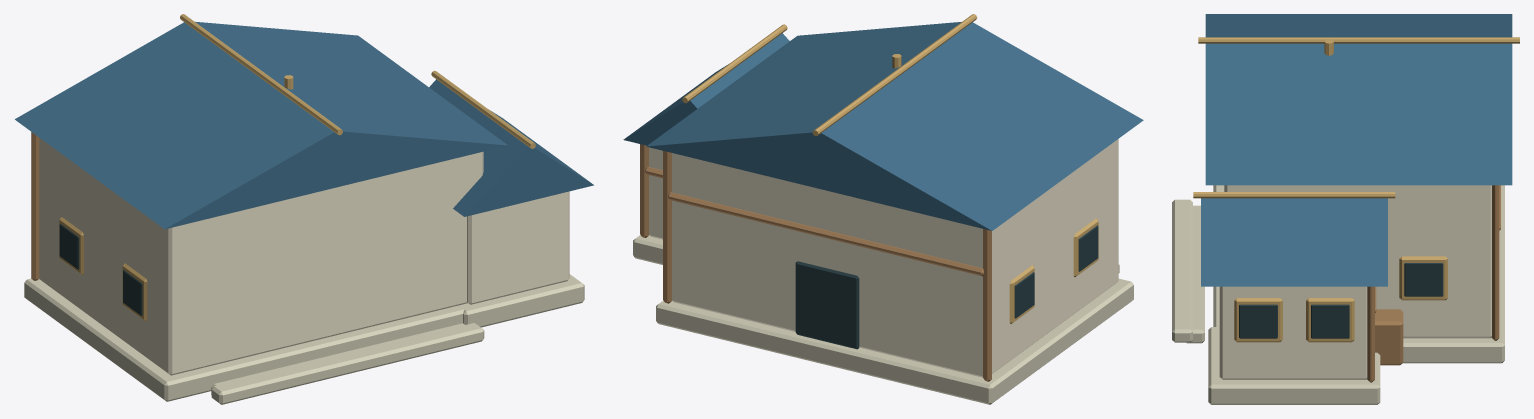
The model's file is level_17.glb.
The picture shows the model from 3 angles, left to right: view 1: azimuth 30°, elevation 25°; view 2: azimuth 150°, elevation 25°; view 3: azimuth 270°, elevation 25°; orthographic projection. The views are drawn at different scales.
Visible parts, largest first — view 1: warehouse — level 17; view 2: warehouse — level 17; view 3: warehouse — level 17.
Part boxes in pixels (bbox=[...]): warehouse — level 17: bbox=[15, 14, 593, 404]; warehouse — level 17: bbox=[623, 14, 1143, 404]; warehouse — level 17: bbox=[1172, 14, 1519, 404].
Bounding box in the file's own units: 6.73 × 3.63 × 4.65.
